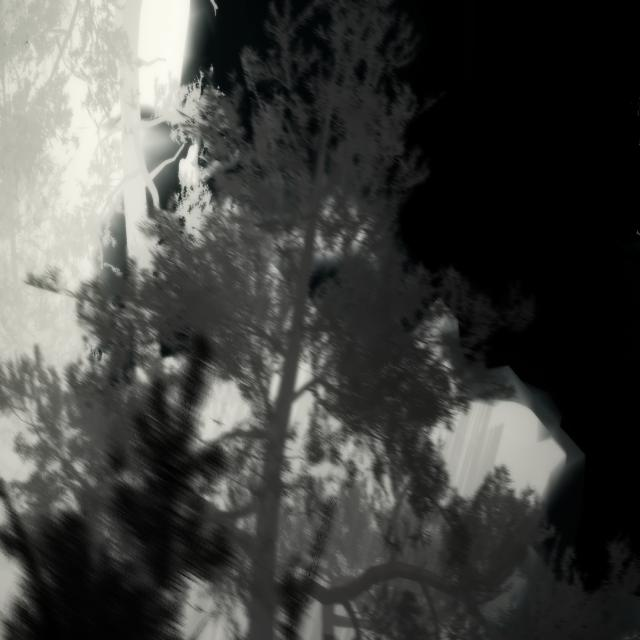Human: (173, 127, 238, 190)
